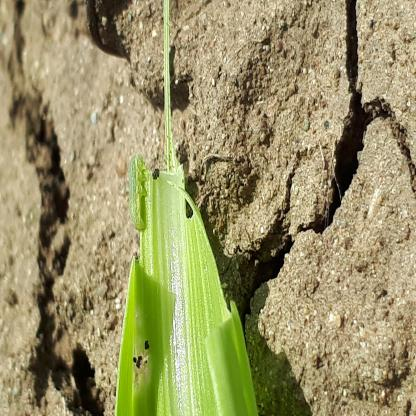armyworm: (106, 230, 145, 263)
